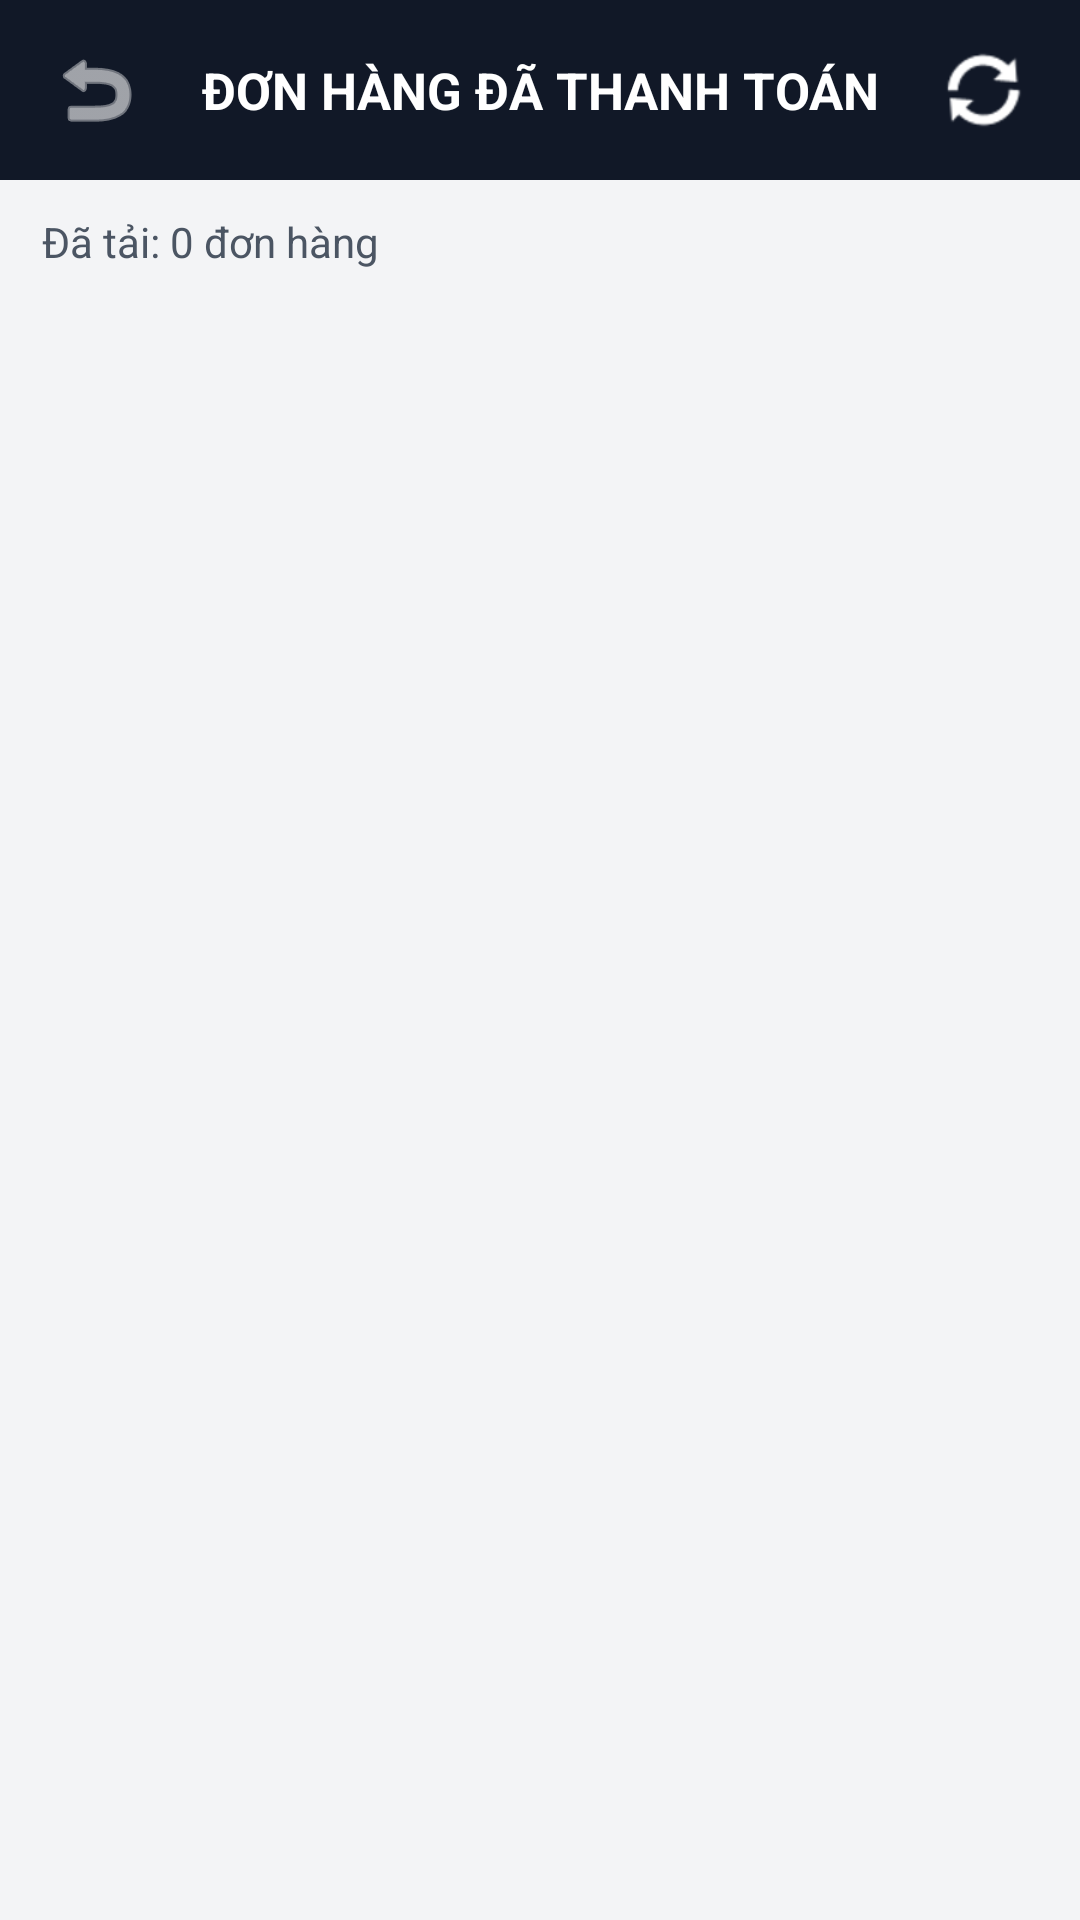

Screen size 1080px x 1920px. Icon name, then its center in pixels as point (x, y):
Quay lại: point (97, 90)
Tải lại danh sách: point (984, 90)
